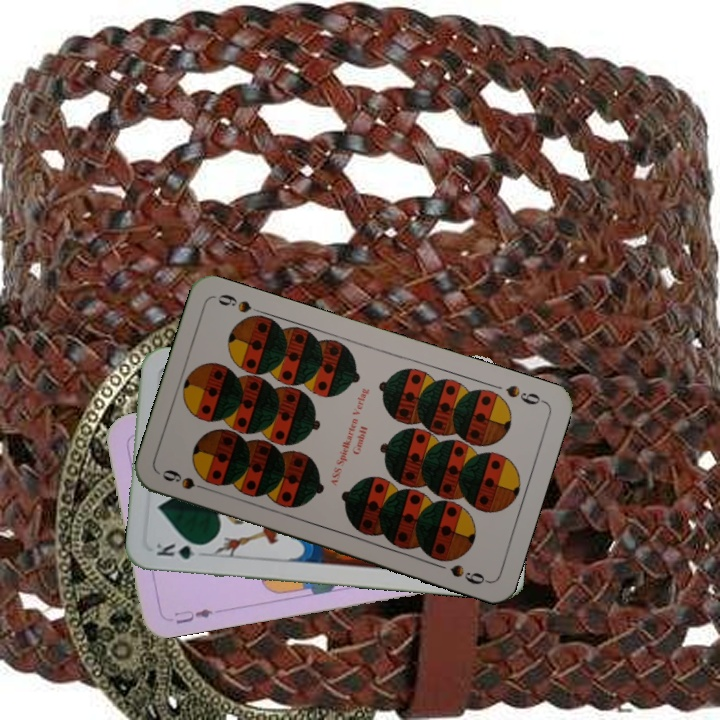EU: (170, 604, 216, 627)
GK: (152, 539, 209, 562)
S9: (158, 465, 215, 495), (502, 381, 547, 408)
